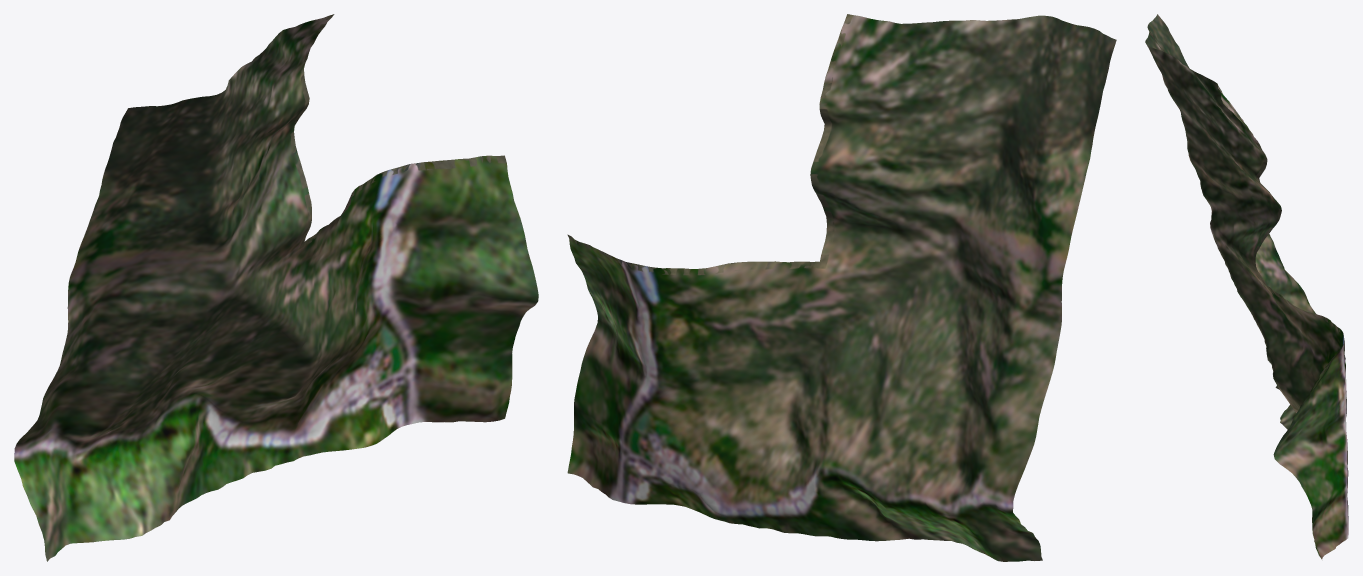
The model's file is ground_far_01_01.obj.
The picture shows the model from 3 angles, left to right: view 1: azimuth 30°, elevation 25°; view 2: azimuth 150°, elevation 25°; view 3: azimuth 270°, elevation 25°; orthographic projection. The views are drawn at different scales.
Visible parts, largest first — view 1: ground_far_01_01; view 2: ground_far_01_01; view 3: ground_far_01_01.
Boxes of the visible parts, x1,y1,x2,y2 form: ground_far_01_01: [14, 14, 538, 561]; ground_far_01_01: [567, 14, 1116, 561]; ground_far_01_01: [1145, 14, 1348, 559].
Bounding box in the file's own units: 2000 × 2000 × 988.
1 material, 1 textured.
